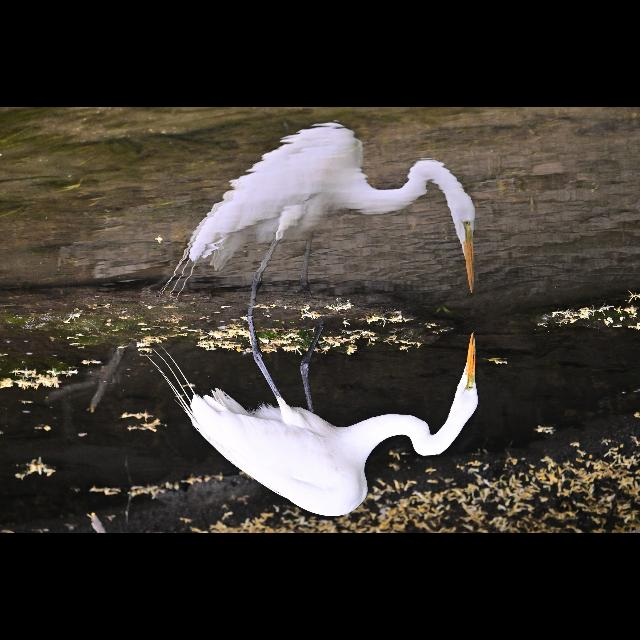egret: (142, 308, 498, 520)
